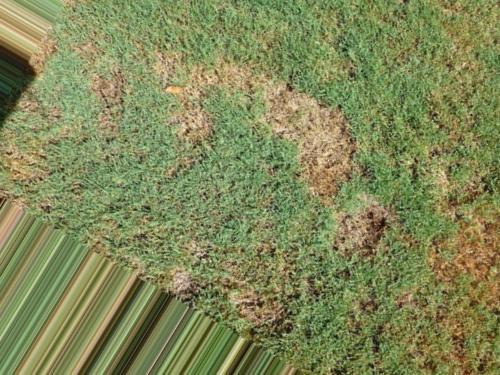patch: (253, 85, 343, 157), (165, 62, 207, 133), (299, 156, 345, 191)
